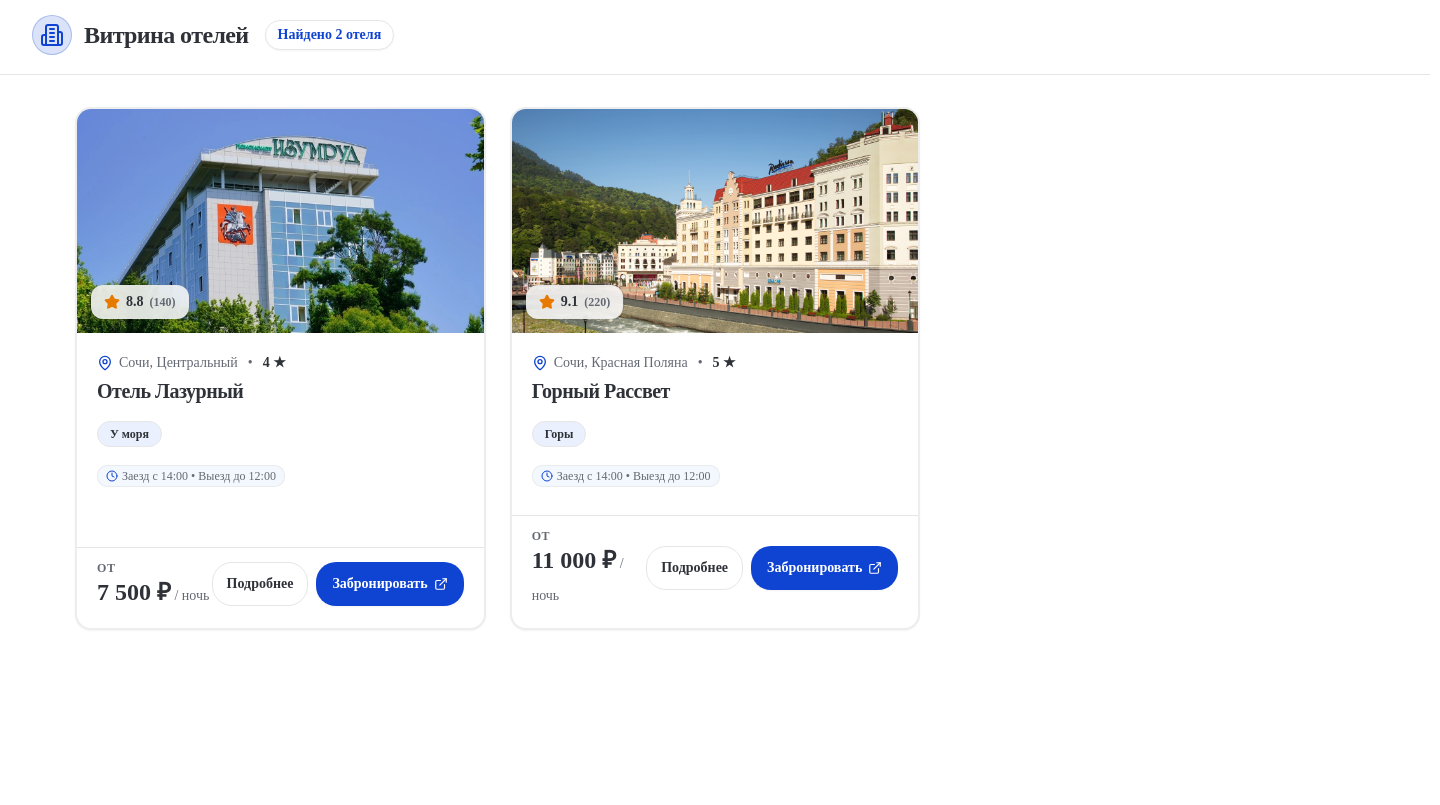
HotelCanvas Mode Switching (Frontend 1) › switches to detail mode when a hotel is selected and back to list mode on back button
The width and height of the screenshot is (1440, 805).
Click on the first hotel card
Step 1. Click the heading "Отель Лазурный" → [170, 391], box [97,380,243,402]
(page scrolled)
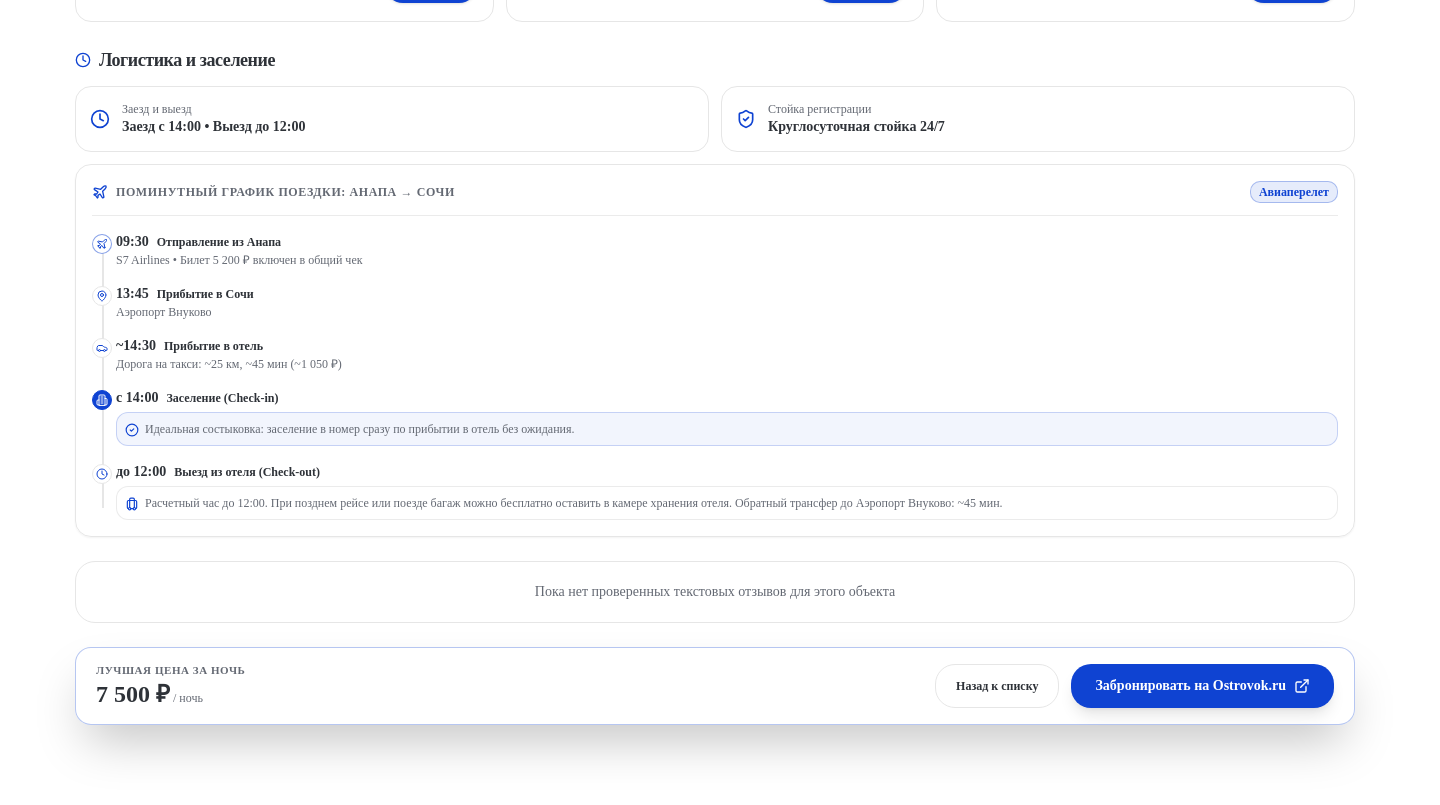
Check: the button "Назад к списку" is shown
Click back button
Step 2. Click the button "Назад к списку" → [997, 686], box [935,664,1060,708]
(page scrolled)
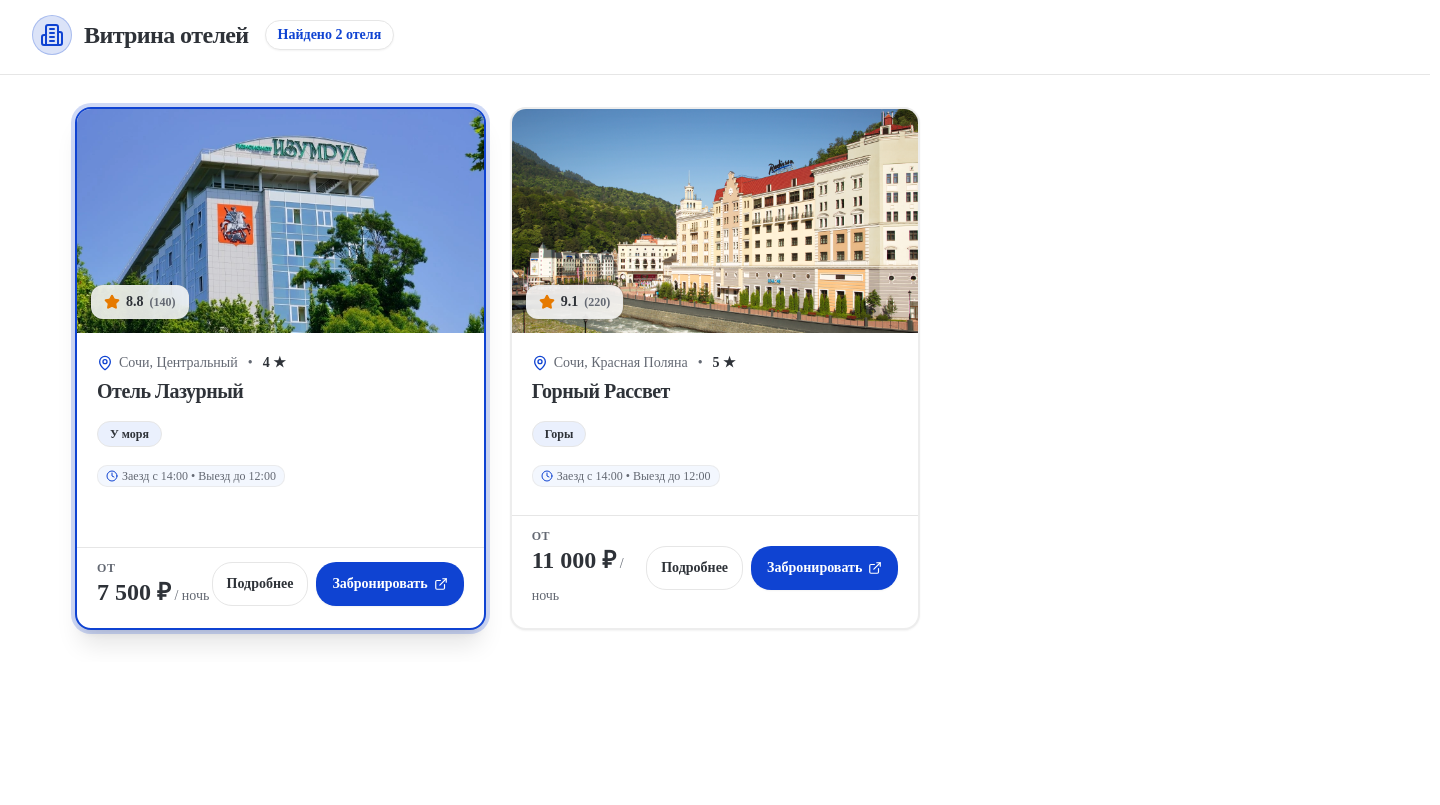
Check: the heading "Отель Лазурный" is shown, box [97,380,243,402]
Check: the heading "Горный Рассвет" is shown, box [532,380,670,402]
